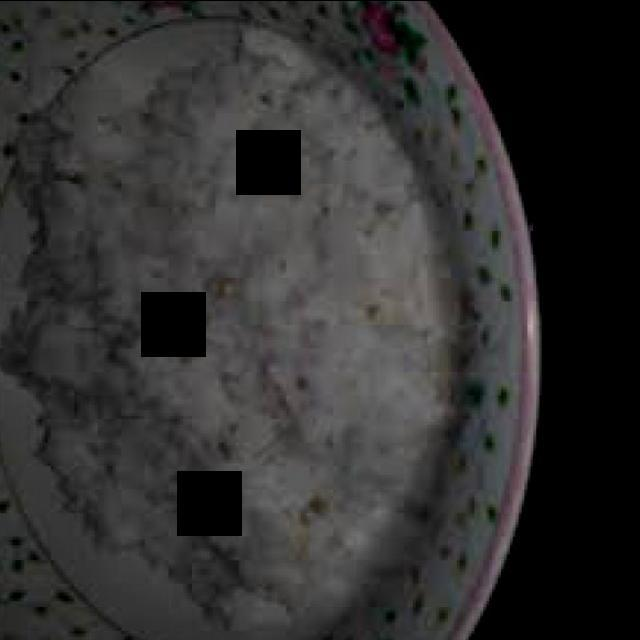rice: (0, 47, 444, 627)
